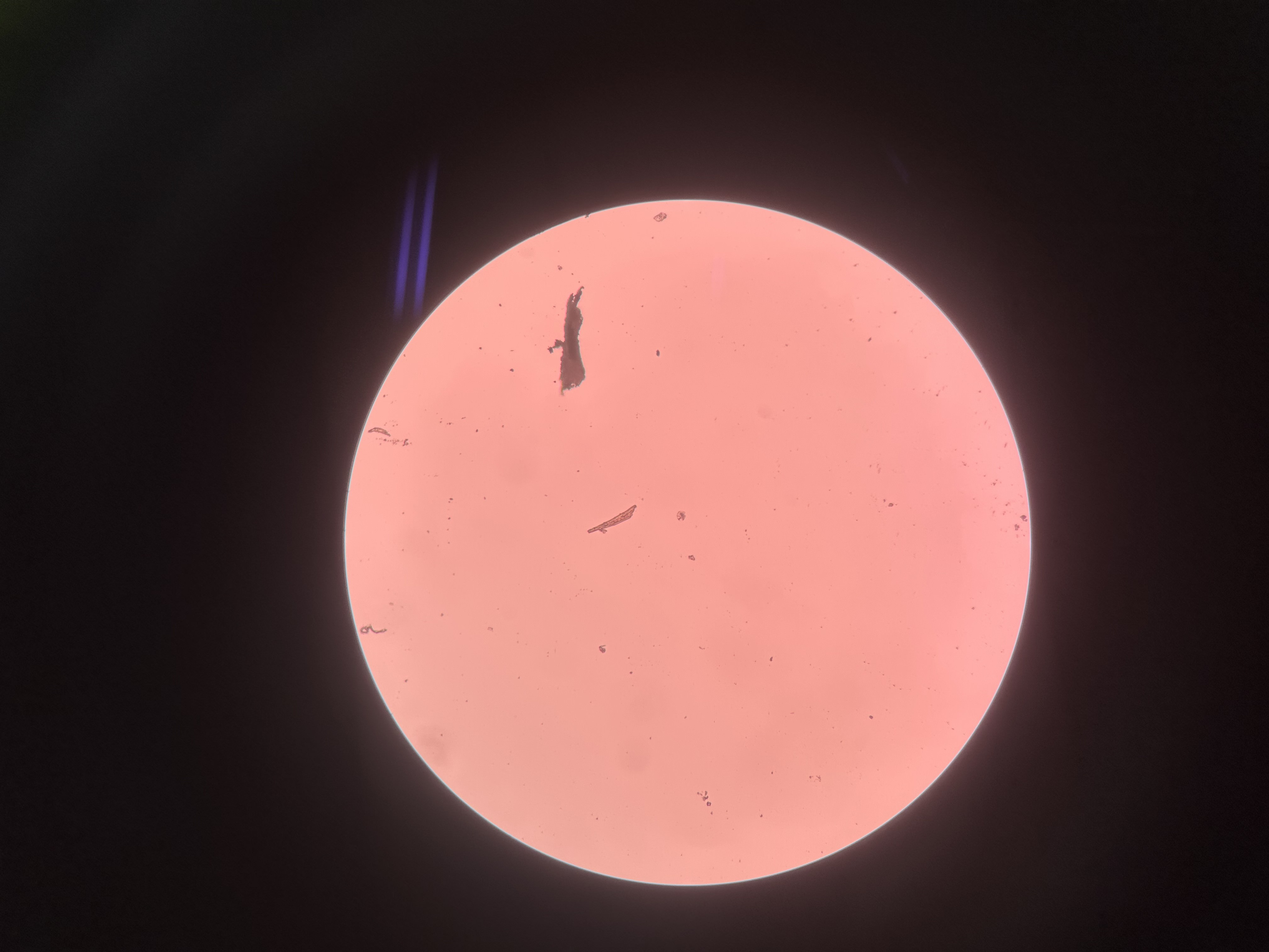microplastic: (546, 283, 593, 392), (582, 503, 645, 536), (367, 426, 413, 450), (358, 619, 388, 639), (651, 212, 670, 222), (674, 511, 687, 520)
